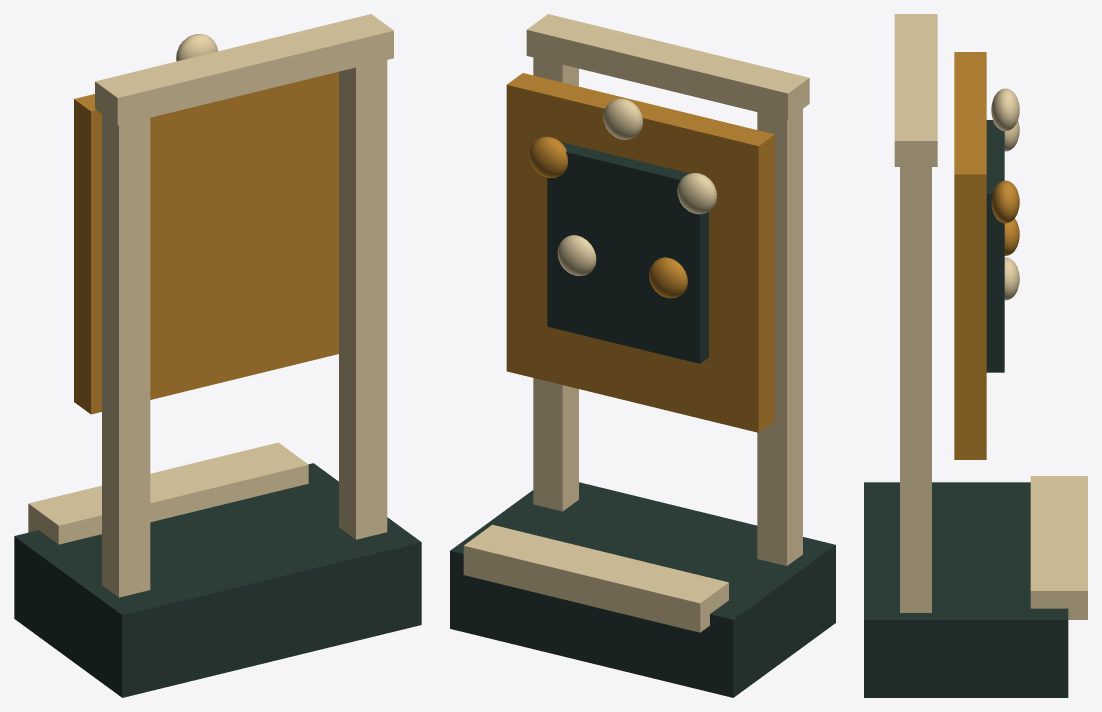
File: fanstand.amber-pier-old.glb
The picture shows the model from 3 angles, left to right: view 1: azimuth 30°, elevation 25°; view 2: azimuth 150°, elevation 25°; view 3: azimuth 270°, elevation 25°; orthographic projection. The views are drawn at different scales.
Parts seen in each view (by area): view 1: support plinth; view 2: support plinth; view 3: support plinth.
Boxes of the visible parts, x1=… form: support plinth: x1=14, y1=14, x2=421, y2=697; support plinth: x1=450, y1=14, x2=835, y2=697; support plinth: x1=864, y1=14, x2=1087, y2=697.
Size of the model in its own units: 0.91 by 1.7 by 0.625.
